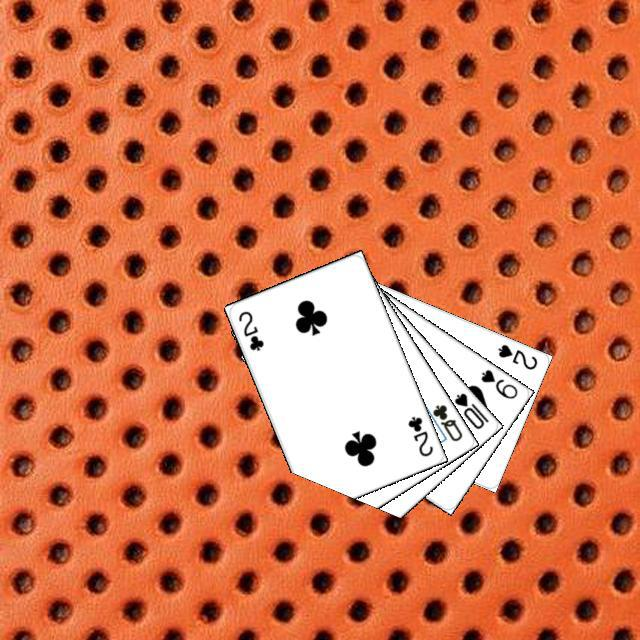10s: (449, 388, 491, 431)
2c: (233, 306, 266, 353), (403, 411, 435, 458)
2s: (493, 339, 539, 371)
9s: (476, 364, 519, 401)
Qc: (420, 399, 464, 443)
